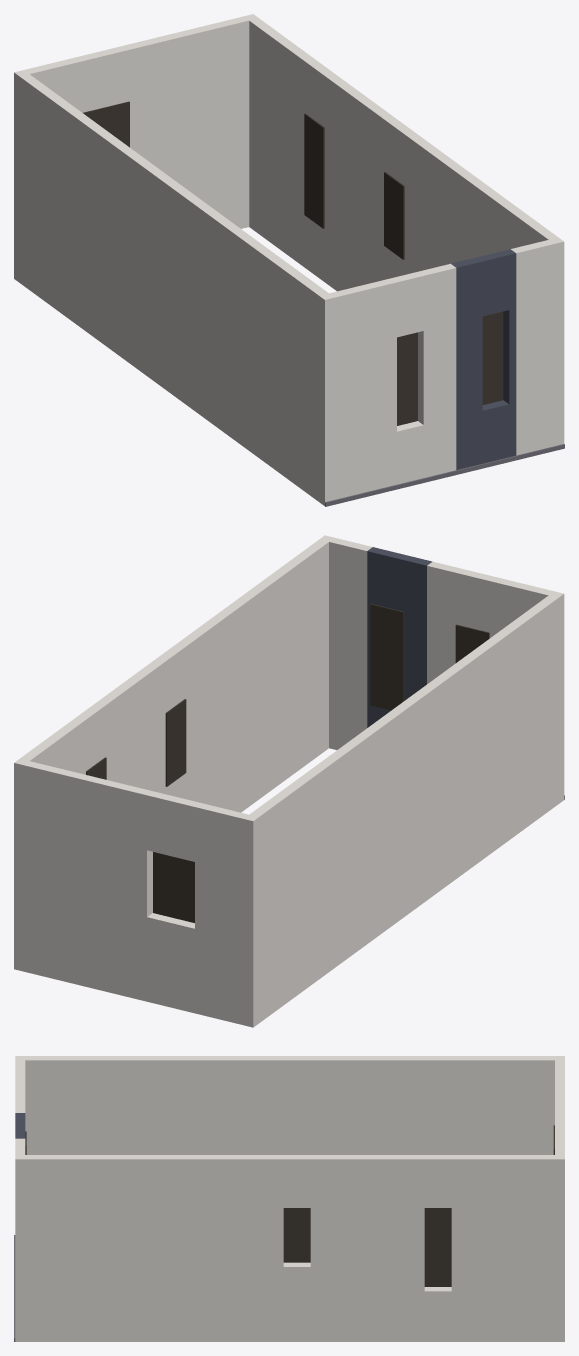
The model's file is SM_Floor_NarrowUpperScatterLowEndR_White_364_Back_01.gltf.
The picture shows the model from 3 angles, top to bottom: view 1: azimuth 30°, elevation 25°; view 2: azimuth 150°, elevation 25°; view 3: azimuth 270°, elevation 25°; orthographic projection. The views are drawn at different scales.
Visible parts, largest first — view 1: SM_Floor_NarrowUpperScatterLowEndR_White_364_Back_01; view 2: SM_Floor_NarrowUpperScatterLowEndR_White_364_Back_01; view 3: SM_Floor_NarrowUpperScatterLowEndR_White_364_Back_01.
Part boxes in pixels (x1,y1,x2,y2): SM_Floor_NarrowUpperScatterLowEndR_White_364_Back_01: (14, 14, 564, 506); SM_Floor_NarrowUpperScatterLowEndR_White_364_Back_01: (14, 535, 564, 1027); SM_Floor_NarrowUpperScatterLowEndR_White_364_Back_01: (14, 1056, 564, 1341).
Size of the model in its own units: 3.64 by 3 by 8.21.
1 material, 1 textured.
